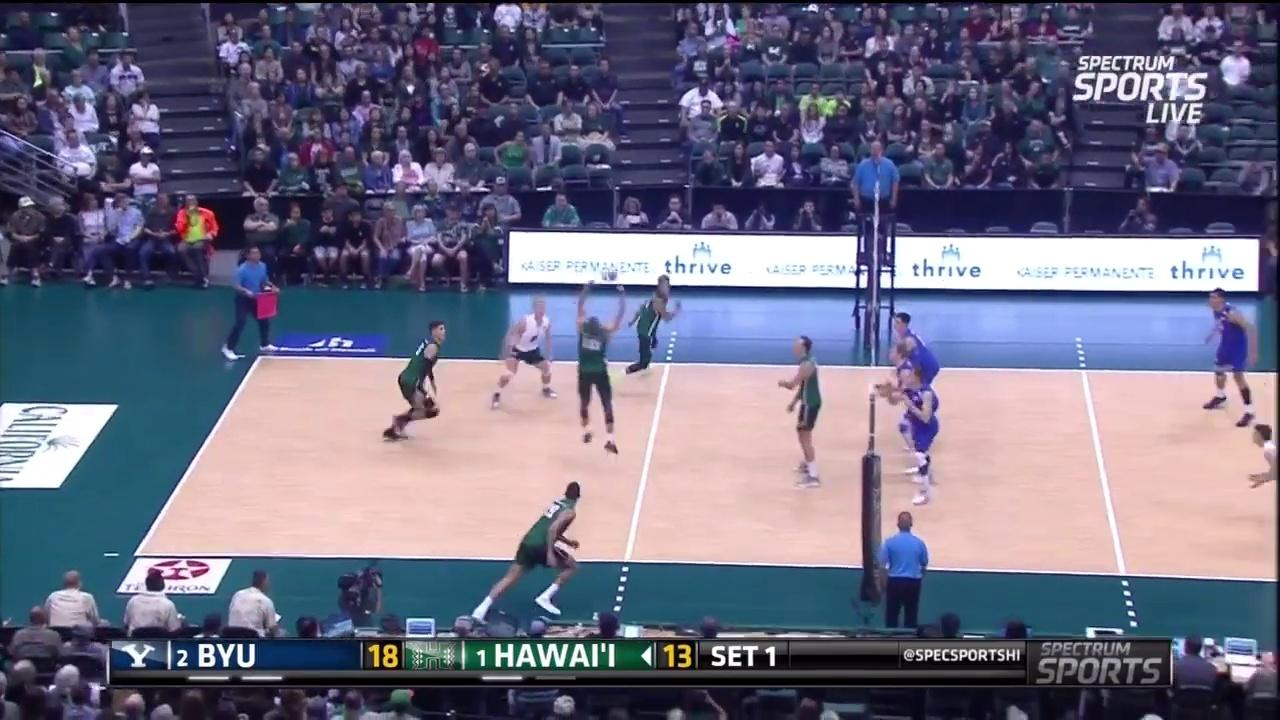player: (455, 484, 585, 632), (571, 294, 624, 445), (386, 324, 445, 442), (494, 303, 562, 405), (881, 345, 934, 474), (1202, 290, 1256, 411), (782, 338, 827, 483), (891, 311, 940, 441), (899, 371, 943, 505), (1244, 421, 1280, 538), (631, 273, 671, 373)
refree: (846, 139, 905, 271), (874, 504, 931, 626), (231, 246, 280, 355)
